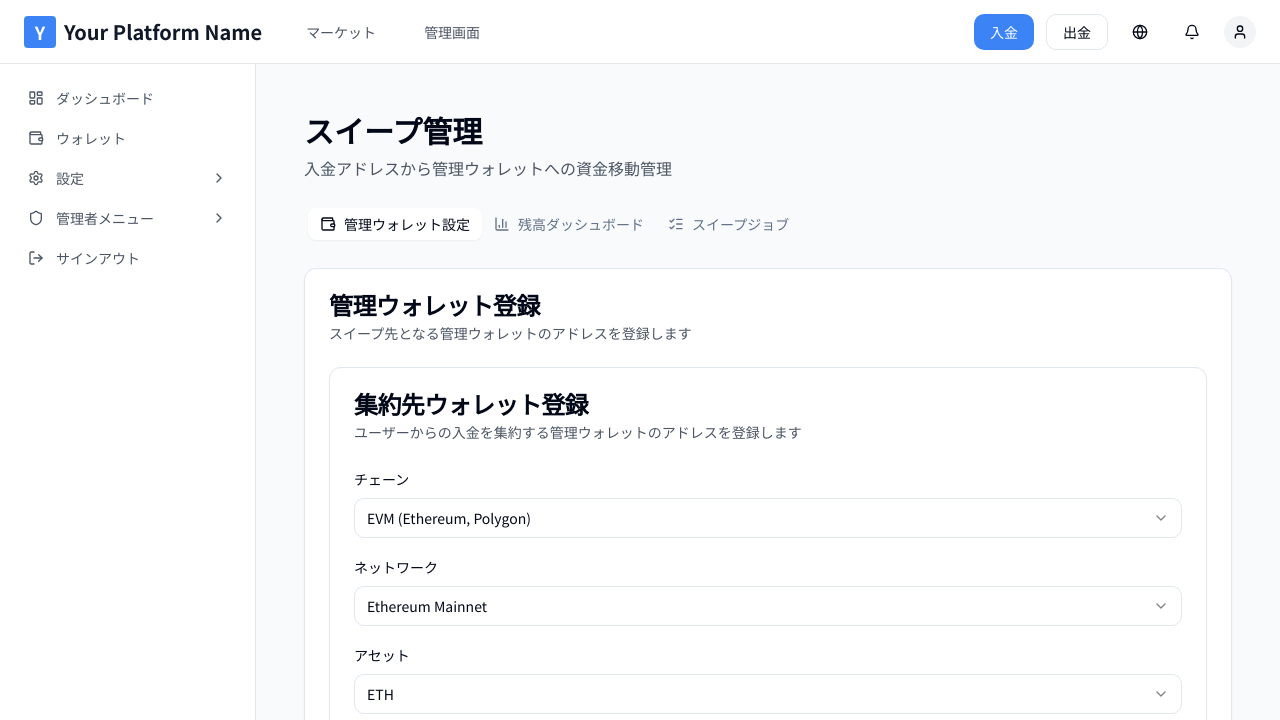
Test case: SweepManager › コンポーネント統合 › スイープジョブタブでSweepJobListが表示される
Click the tab "スイープジョブ".
click(729, 224)  # box [656,208,801,240]
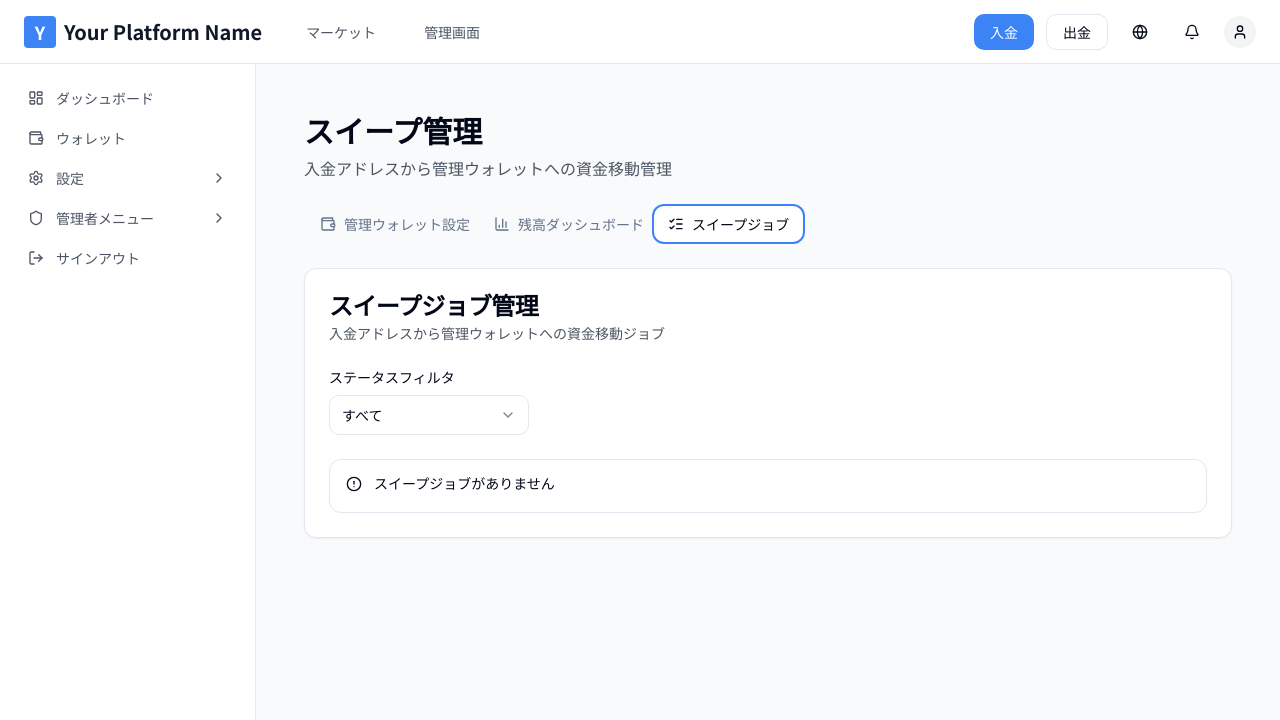
Expected: the heading "スイープジョブ管理" is shown, [329,287,538,322]
